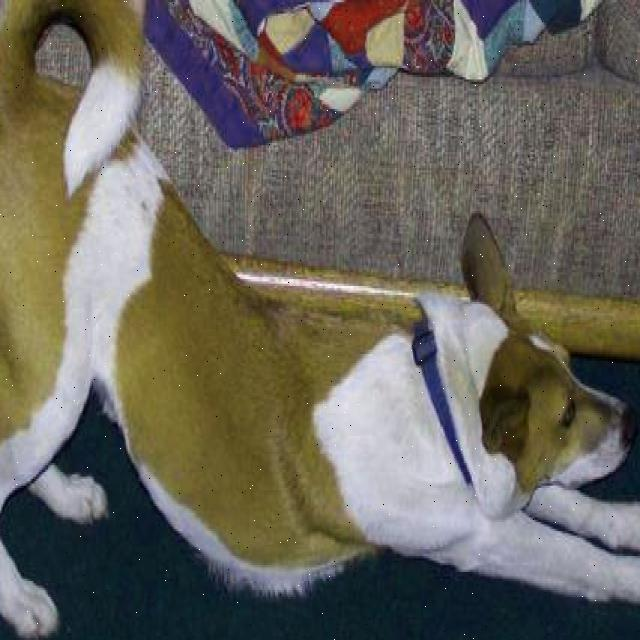Dog: (451, 186, 640, 499)
